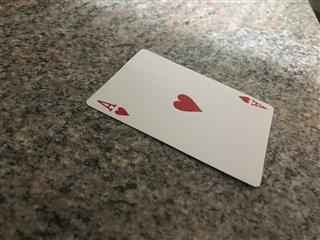AceOfHearts: (85, 47, 274, 187)
